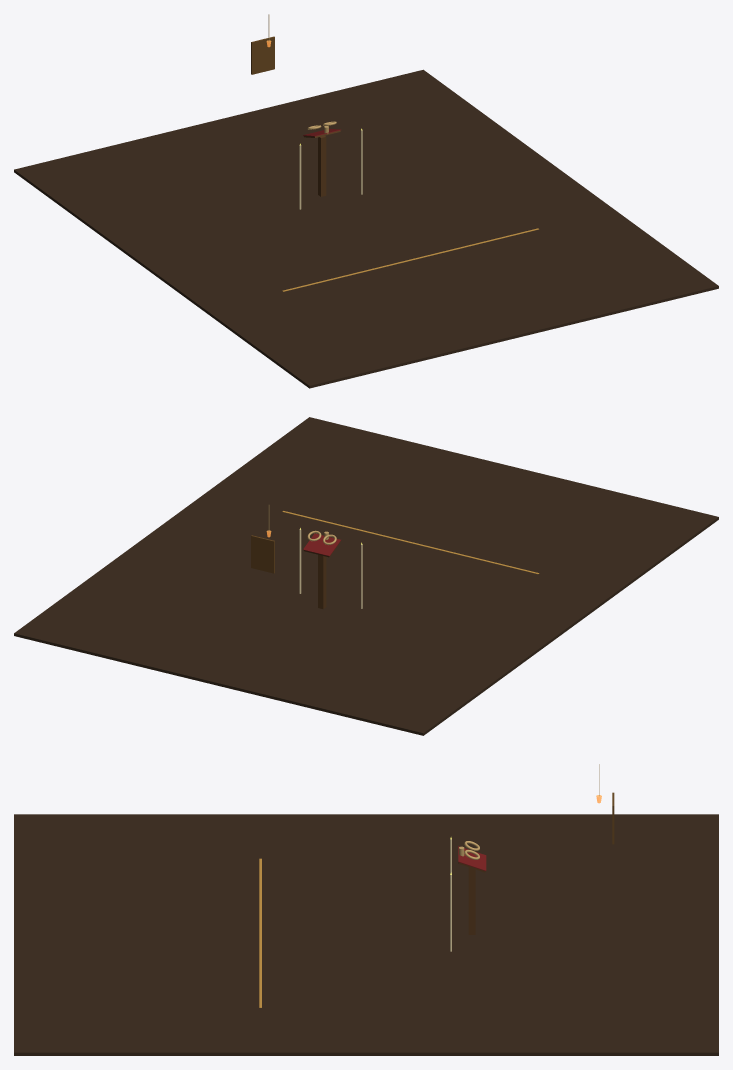
Rendered from sacrament-marriage.glb.
3 renders of one model, top to bottom at view 1: azimuth 30°, elevation 25°; view 2: azimuth 150°, elevation 25°; view 3: azimuth 270°, elevation 25°, orthographic. The views are drawn at different scales.
Parts seen in each view (by area): view 1: floor, icon-board; view 2: floor, icon-board, witness-line; view 3: floor, analoy-stand.
Boxes of the visible parts, x1=… form: floor: x1=14, y1=69, x2=718, y2=388; icon-board: x1=251, y1=36, x2=274, y2=74; floor: x1=14, y1=417, x2=718, y2=735; icon-board: x1=251, y1=535, x2=274, y2=573; witness-line: x1=282, y1=511, x2=539, y2=574; floor: x1=14, y1=814, x2=718, y2=1055; analoy-stand: x1=468, y1=867, x2=475, y2=934.
Size of the model in its own units: 8 by 2.7 by 10.
